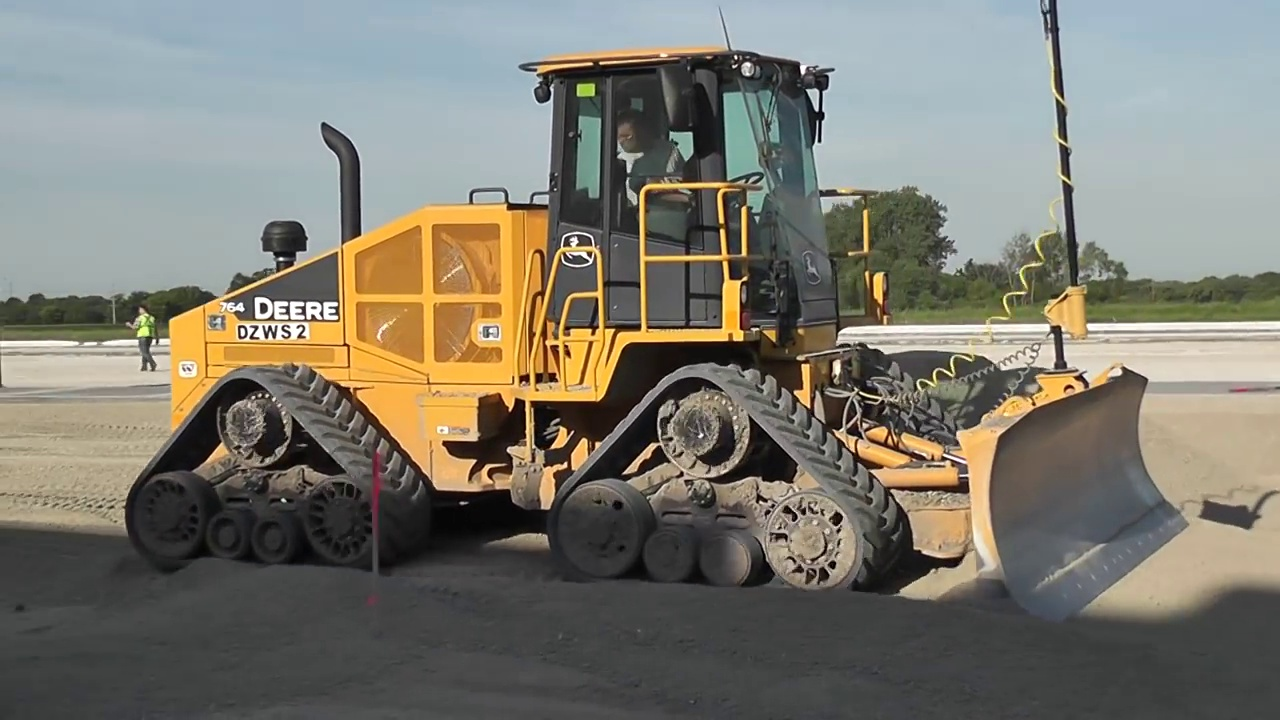bulldozer: (125, 41, 1189, 610)
person: (127, 300, 160, 370)
